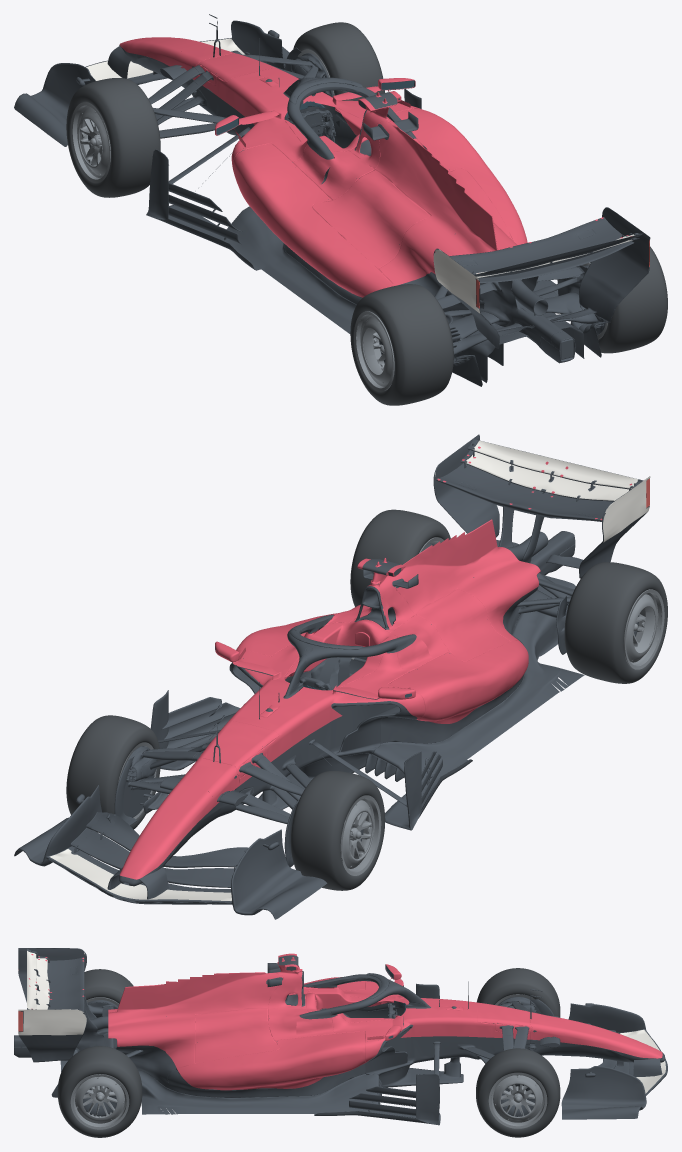
File: ferrari-medium.glb
3 renders of one model, top to bottom at view 1: azimuth 30°, elevation 25°; view 2: azimuth 150°, elevation 25°; view 3: azimuth 270°, elevation 25°, orthographic. The views are drawn at different scales.
Visible parts, largest first — view 1: body, wheel2, wheel0, rearFlaps, frontFlaps, wheel3, wheel1, frontWing, rearWing, steering; view 2: body, frontFlaps, rearFlaps, wheel2, wheel0, wheel1, frontWing, wheel3, rearWing; view 3: body, frontFlaps, wheel3, wheel1, rearFlaps, wheel0, frontWing, wheel2, rearWing.
Part boxes in pixels (left/top/right/bottom): body: left=65, top=14, right=646, bottom=386; wheel2: left=350, top=284, right=453, bottom=405; wheel0: left=66, top=78, right=160, bottom=197; rearFlaps: left=434, top=207, right=650, bottom=313; frontFlaps: left=28, top=20, right=284, bottom=119; wheel3: left=565, top=246, right=667, bottom=353; wheel1: left=293, top=22, right=384, bottom=100; frontWing: left=14, top=46, right=289, bottom=146; rearWing: left=439, top=251, right=648, bottom=327; steering: left=292, top=109, right=332, bottom=135; body: left=114, top=471, right=639, bottom=867; frontFlaps: left=26, top=784, right=292, bottom=913; rearFlaps: left=435, top=434, right=650, bottom=541; wheel2: left=564, top=562, right=667, bottom=683; wheel0: left=290, top=771, right=385, bottom=890; wheel1: left=66, top=715, right=160, bottom=832; frontWing: left=14, top=817, right=327, bottom=919; wheel3: left=350, top=509, right=450, bottom=606; rearWing: left=438, top=489, right=647, bottom=555; body: left=14, top=952, right=564, bottom=1125; frontFlaps: left=562, top=1003, right=666, bottom=1108; wheel3: left=57, top=1046, right=142, bottom=1137; wheel1: left=476, top=1048, right=560, bottom=1137; rearFlaps: left=18, top=948, right=85, bottom=1035; wheel0: left=477, top=968, right=560, bottom=1017; frontWing: left=561, top=1062, right=667, bottom=1119; wheel2: left=84, top=969, right=133, bottom=1006; rearWing: left=18, top=975, right=86, bottom=1044.
Size of the model in its own units: 1.9 by 1.22 by 5.32.
